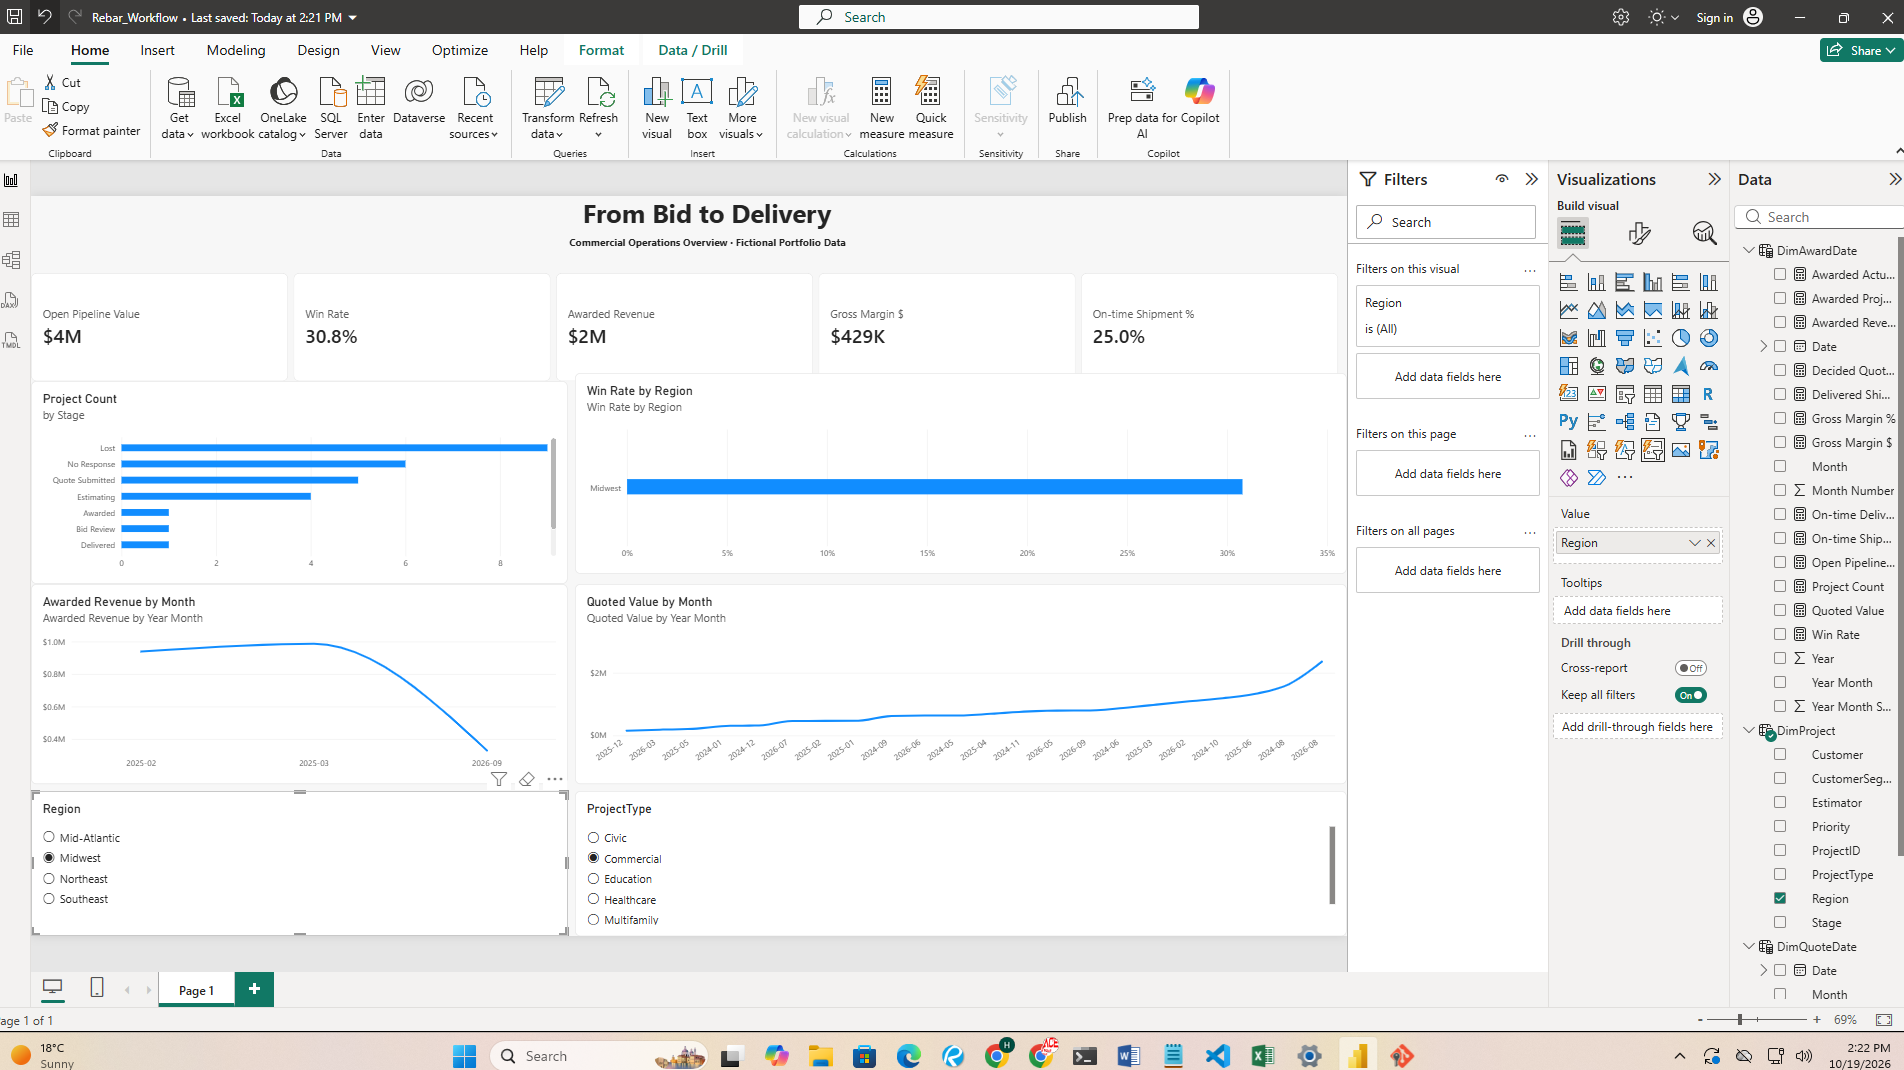

This screenshot's page, from the dashboard's own definition file:
{"tool":"powerbi","page":{"name":"Page 1","canvas":[1920,1080],"ordinal":0},"visuals":[{"type":"cardVisual","fields":{"Data":["DimAwardDate.Open Pipeline Value","DimAwardDate.Win Rate","DimAwardDate.Awarded Revenue","DimAwardDate.Gross Margin $","DimAwardDate.On-time Shipment %"]},"box":[0,111.7,1910,158.3],"z":0},{"type":"clusteredBarChart","fields":{"Category":["DimProject.Stage"],"Y":["DimAwardDate.Project Count"]},"box":[0,269.9,783.5,296.2],"z":1000},{"type":"clusteredBarChart","title":"Win Rate  by Region","fields":{"Category":["DimProject.Region"],"Y":["DimAwardDate.Win Rate"]},"box":[793.7,258.2,1126.3,293.3],"z":2000},{"type":"lineChart","title":"Awarded Revenue by Month","fields":{"Category":["DimAwardDate.Year Month"],"Y":["DimAwardDate.Awarded Revenue"]},"box":[0,566.1,783,292],"z":3000},{"type":"lineChart","title":"Quoted Value by Month","fields":{"Category":["DimQuoteDate.Year Month"],"Y":["DimAwardDate.Quoted Value"]},"box":[793.7,566.1,1126,292],"z":4000},{"type":"listSlicer","fields":{"Values":["DimProject.Region"]},"box":[0,868,783,212],"z":5000},{"type":"listSlicer","fields":{"Values":["DimProject.ProjectType"]},"box":[794,868,1126,212],"z":6000},{"type":"textbox","box":[0,0,1920.6,57.2],"z":7000},{"type":"textbox","box":[54.5,57.2,1866.1,43.9],"z":8000}]}

Visuals, with their boxes on the page's 1920x1080 design canvas (x1, y1, x2, y2). These are canvas units, not pixel positions in the 1904x1070 screenshot, which may show the page scaled, cropped or inside an application window:
cardVisual - DimAwardDate.Open Pipeline Value x DimAwardDate.Win Rate: box=[0, 112, 1910, 270]
clusteredBarChart - DimProject.Stage x DimAwardDate.Project Count: box=[0, 270, 784, 566]
"Win Rate  by Region" clusteredBarChart: box=[794, 258, 1920, 552]
"Awarded Revenue by Month" lineChart: box=[0, 566, 783, 858]
"Quoted Value by Month" lineChart: box=[794, 566, 1920, 858]
listSlicer - DimProject.Region: box=[0, 868, 783, 1080]
listSlicer - DimProject.ProjectType: box=[794, 868, 1920, 1080]
textbox: box=[0, 0, 1921, 57]
textbox: box=[54, 57, 1921, 101]
